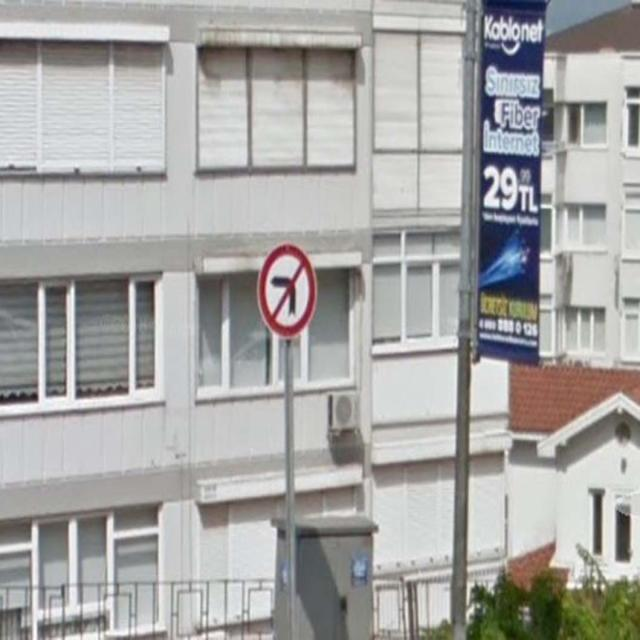soladonulmez: (257, 242, 318, 338)
